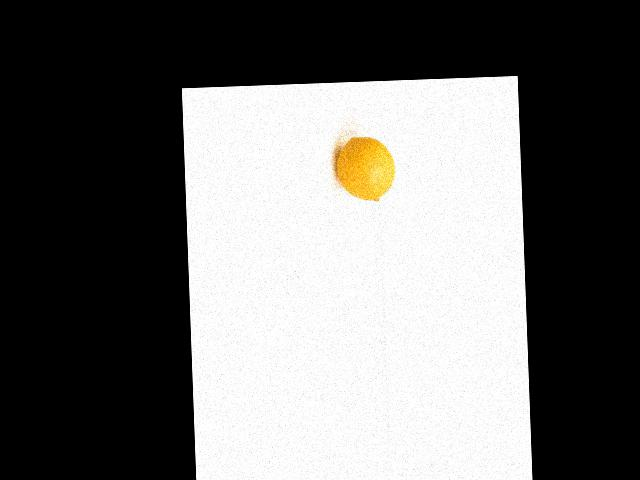lemon: (331, 128, 398, 203)
